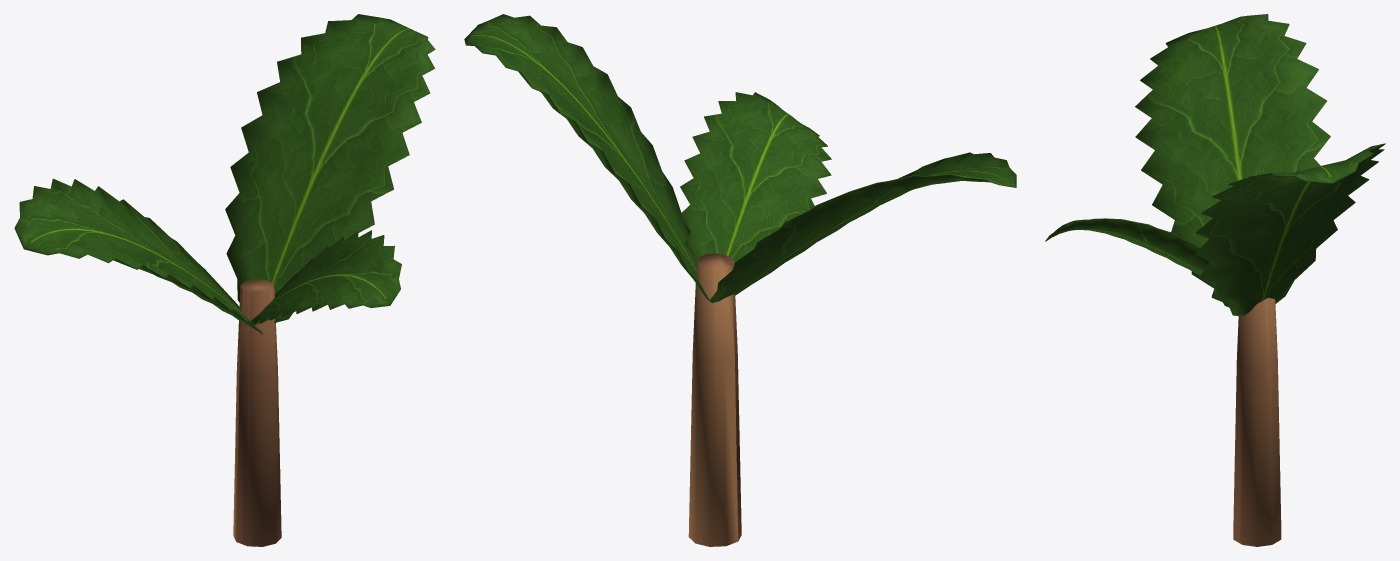
Rendered from NP_Blackberry_Sprout.fbx.
The picture shows the model from 3 angles, left to right: view 1: azimuth 30°, elevation 25°; view 2: azimuth 150°, elevation 25°; view 3: azimuth 270°, elevation 25°; orthographic projection. The views are drawn at different scales.
Visible parts, largest first — view 1: NP_Blackberry_Sprout; view 2: NP_Blackberry_Sprout; view 3: NP_Blackberry_Sprout.
Boxes of the visible parts, left/top/right/bottom form: NP_Blackberry_Sprout: left=14, top=14, right=435, bottom=546; NP_Blackberry_Sprout: left=464, top=14, right=1016, bottom=546; NP_Blackberry_Sprout: left=1045, top=14, right=1385, bottom=546.
Size of the model in its own units: 34.04 by 32.22 by 21.53.
